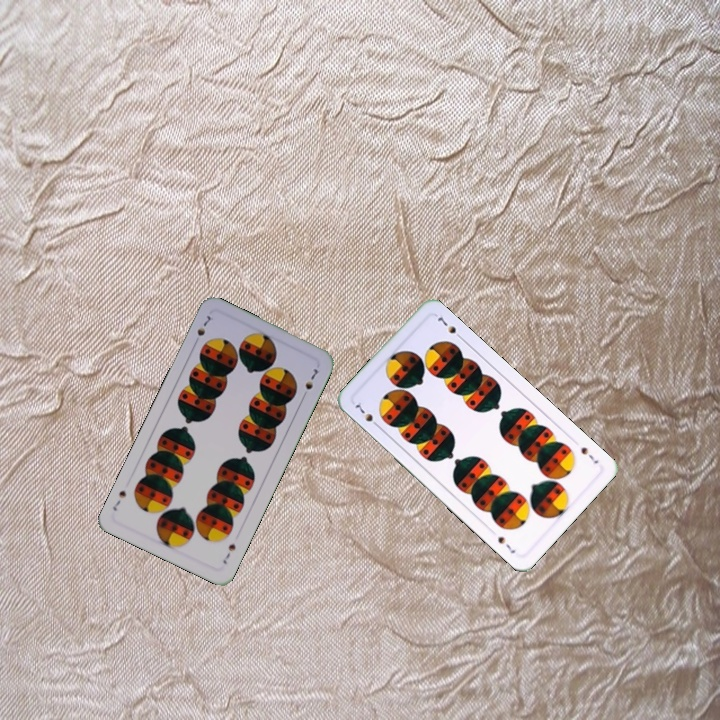S7: (352, 400, 382, 431), (190, 311, 214, 348), (577, 443, 601, 466), (219, 540, 238, 567)
